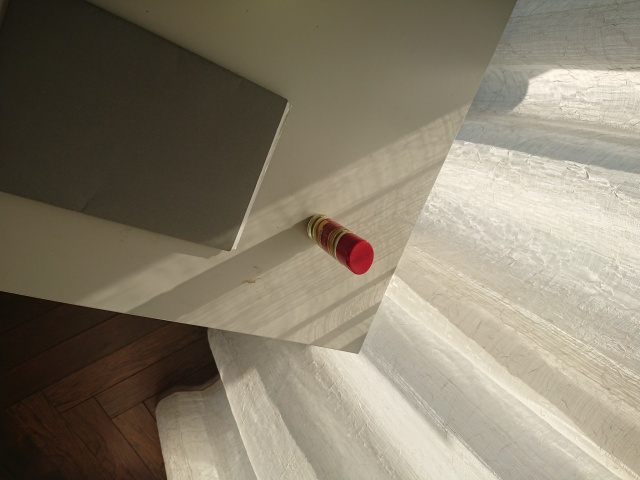Kotanyi Curry Spices Mix 70g: (305, 211, 376, 277)
